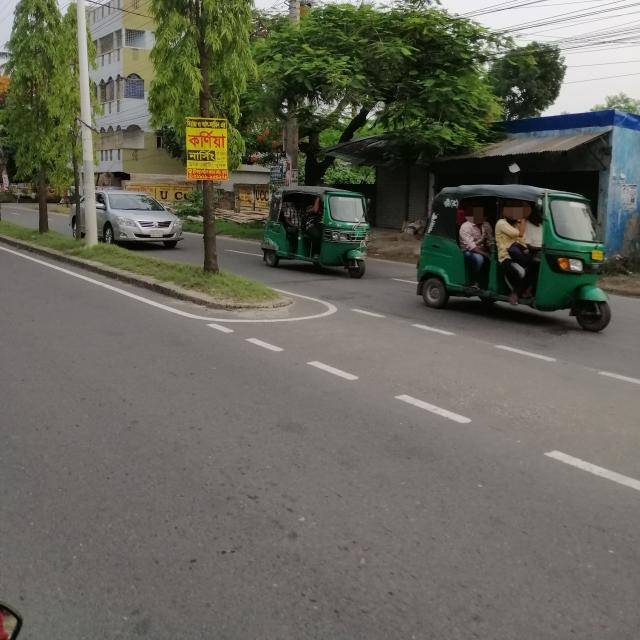CNG: (412, 169, 623, 349), (251, 176, 395, 295)
Car: (49, 167, 211, 273)
